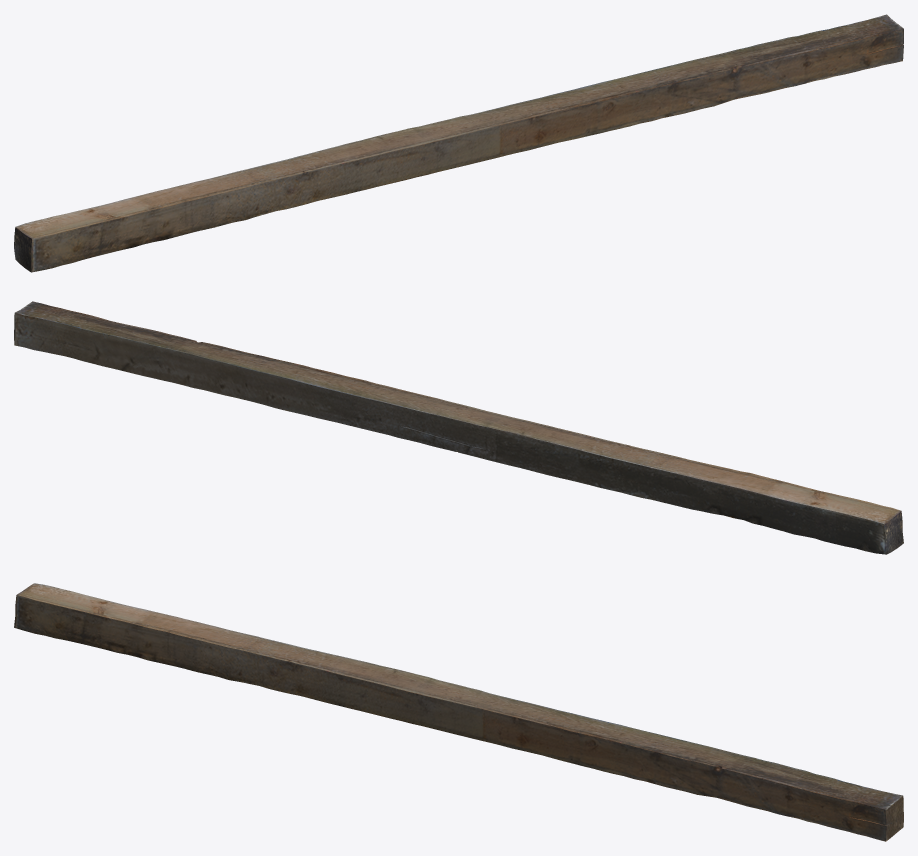
File: MOD_PostA.fbx
3 views of the same model, one above another, from view 1: azimuth 30°, elevation 25°; view 2: azimuth 150°, elevation 25°; view 3: azimuth 330°, elevation 25° (orthographic).
Visible parts, largest first — view 1: PostA_low; view 2: PostA_low; view 3: PostA_low.
Boxes of the visible parts, x1,y1,x2,y2 form: PostA_low: [14, 14, 903, 272]; PostA_low: [14, 301, 903, 554]; PostA_low: [14, 583, 903, 841].
Bounding box in the file's own units: 293 × 11.61 × 11.37.
